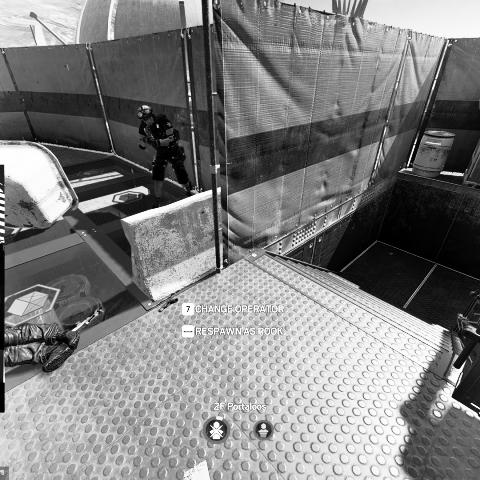Character: (136, 104, 194, 211)
Head: (136, 104, 157, 128)
